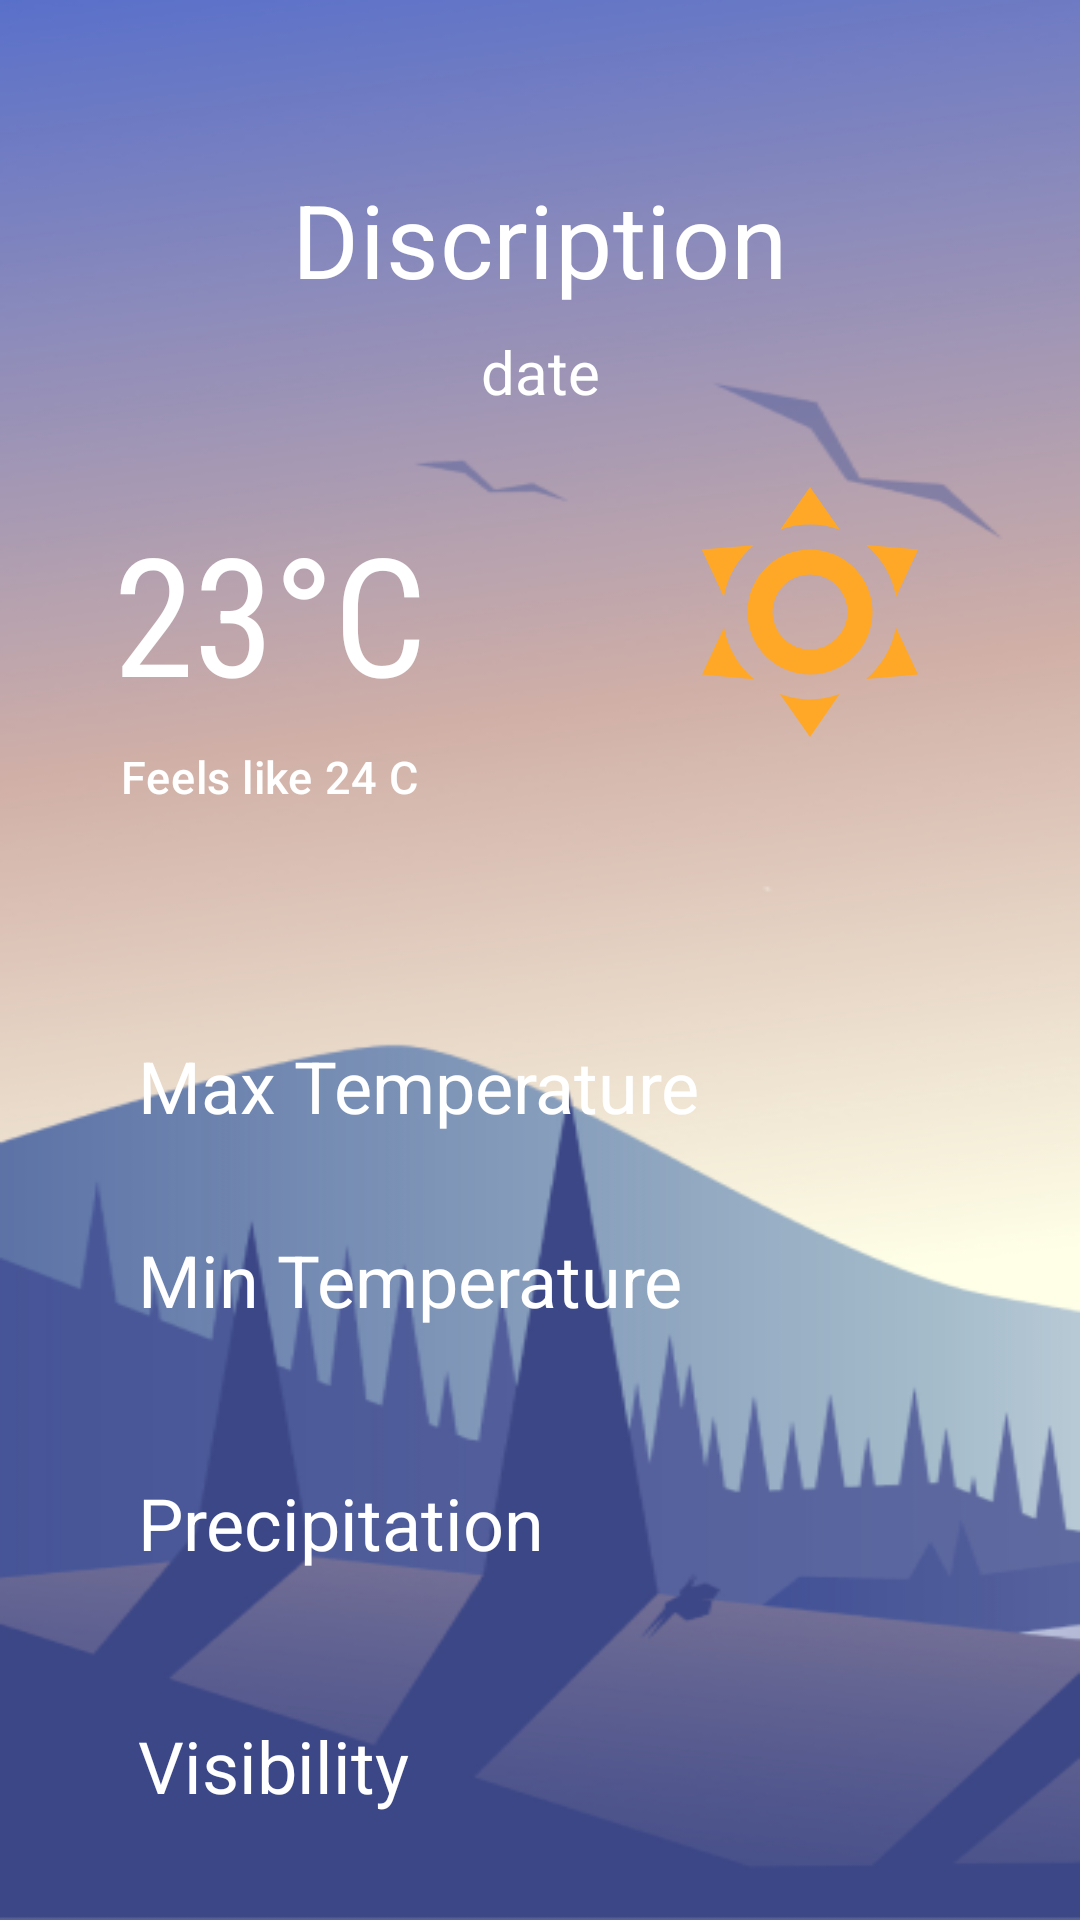

Icons on this 1080 x 1920 Android screen, each with the point to tap as (x,y):
sunny weather: (810,612)
